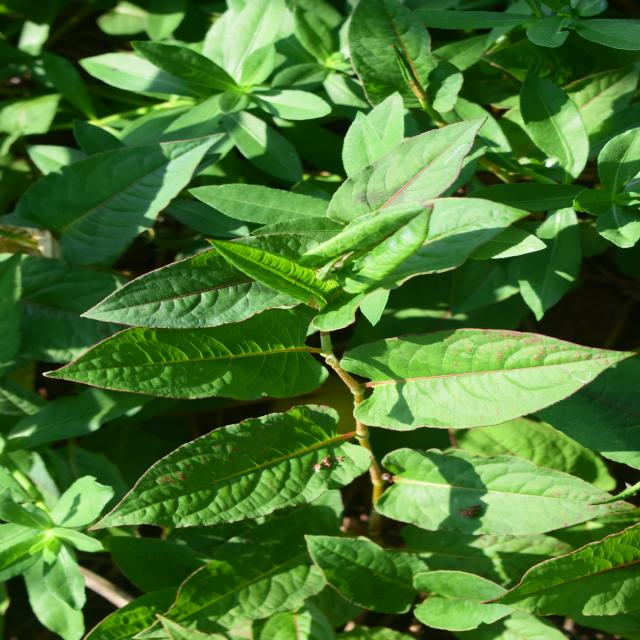Chinese_knotweed: (92, 79, 418, 589)
